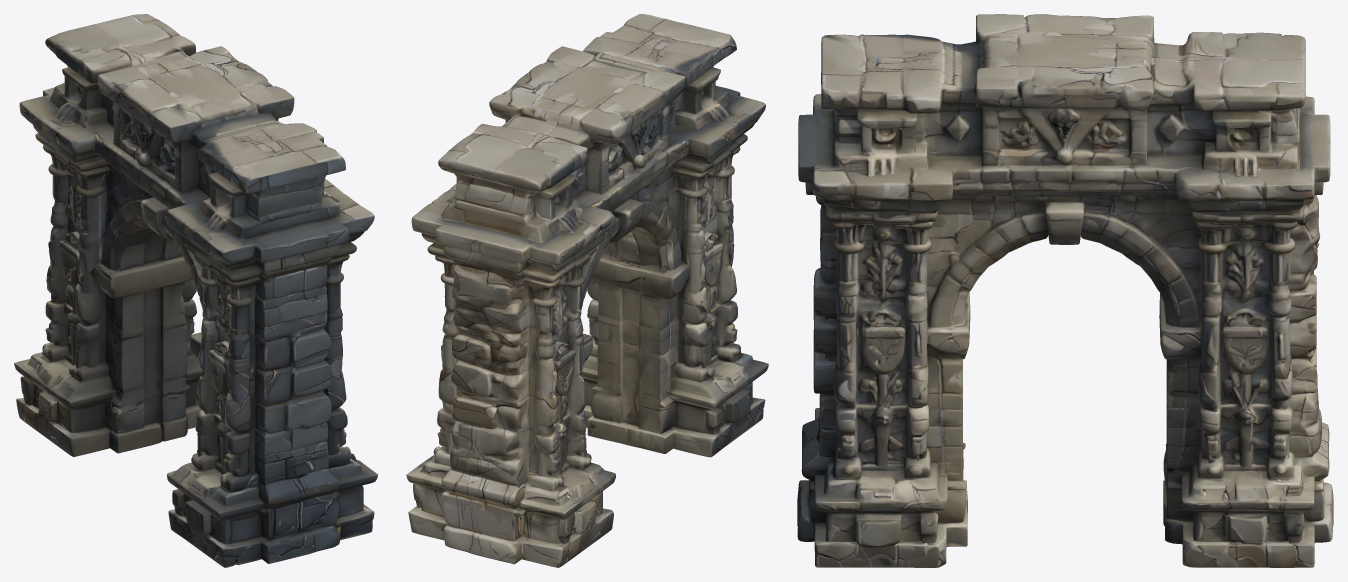
Rendered from city-archway.glb.
3 views of the same model, side by side, from view 1: azimuth 30°, elevation 25°; view 2: azimuth 150°, elevation 25°; view 3: azimuth 270°, elevation 25° (orthographic). The views are drawn at different scales.
Parts seen in each view (by area): view 1: tripo_node_1858d4f0-c5ee-48db-981f-b6b25f8cad9a; view 2: tripo_node_1858d4f0-c5ee-48db-981f-b6b25f8cad9a; view 3: tripo_node_1858d4f0-c5ee-48db-981f-b6b25f8cad9a.
Part boxes in pixels (x1,y1,x2,y2): tripo_node_1858d4f0-c5ee-48db-981f-b6b25f8cad9a: (14, 14, 377, 567); tripo_node_1858d4f0-c5ee-48db-981f-b6b25f8cad9a: (406, 14, 768, 567); tripo_node_1858d4f0-c5ee-48db-981f-b6b25f8cad9a: (797, 14, 1333, 567).
Bounding box in the file's own units: 3.42 × 8 × 8.2.
Materials: 1 (1 with a texture image).
